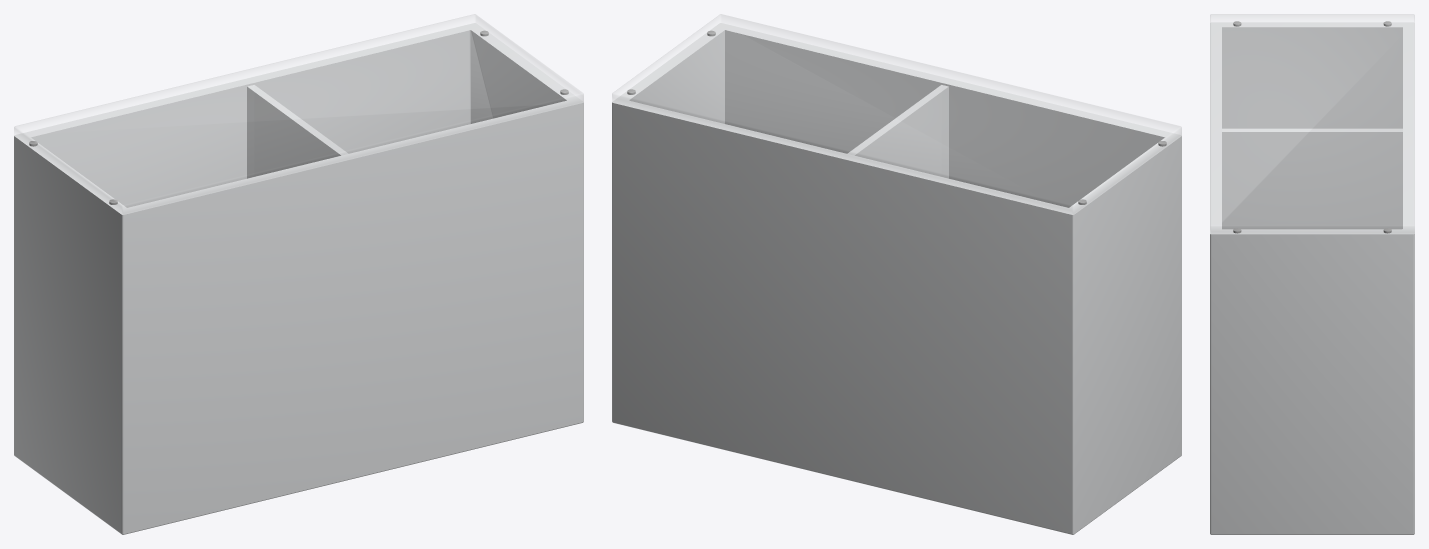
File: acrylic-case-premium-bundle.glb
3 renders of one model, left to right at view 1: azimuth 30°, elevation 25°; view 2: azimuth 150°, elevation 25°; view 3: azimuth 270°, elevation 25°, orthographic. The views are drawn at different scales.
Visible parts, largest first — view 1: Cube, Cube.002, Divider; view 2: Cube, Cube.002, Divider; view 3: Cube, Cube.002, Divider.
Boxes of the visible parts, left/top/right/bottom form: Cube: left=14, top=23, right=583, bottom=534; Cube.002: left=14, top=14, right=583, bottom=214; Divider: left=247, top=85, right=348, bottom=178; Cube: left=612, top=23, right=1181, bottom=534; Cube.002: left=612, top=14, right=1181, bottom=214; Divider: left=847, top=85, right=948, bottom=178; Cube: left=1210, top=22, right=1414, bottom=534; Cube.002: left=1210, top=14, right=1414, bottom=233; Divider: left=1222, top=128, right=1402, bottom=229.
Size of the model in its own units: 0.252 by 0.172 by 0.103.
5 materials, 3 textured.
